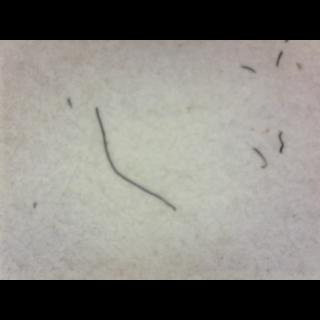Microplastic: (85, 100, 189, 232), (240, 121, 300, 171), (228, 52, 264, 78), (278, 46, 294, 72)
